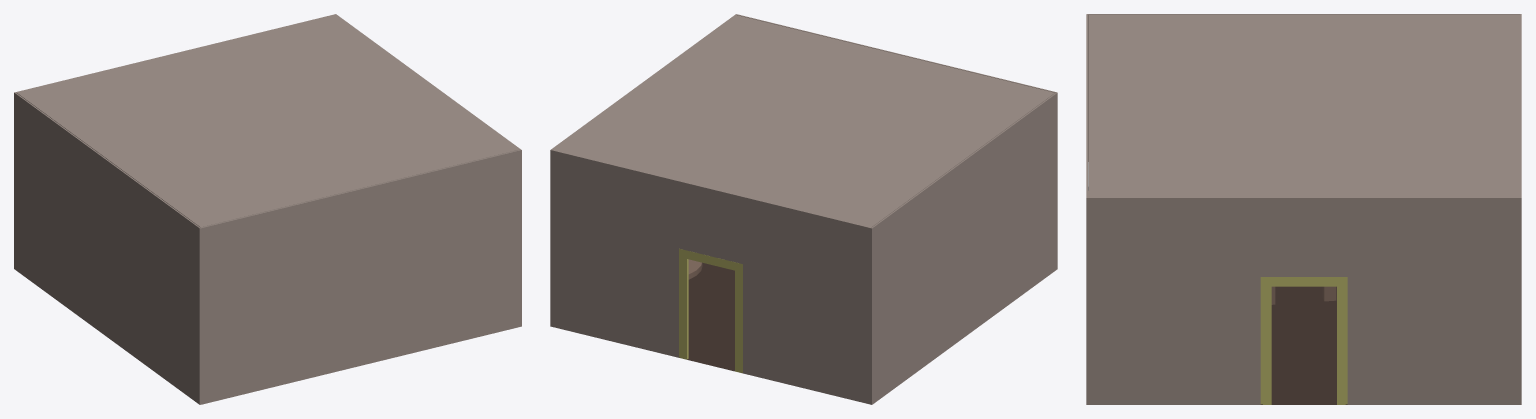
File: Room29_Kitchen.fbx
3 views of the same model, side by side, from view 1: azimuth 30°, elevation 25°; view 2: azimuth 150°, elevation 25°; view 3: azimuth 270°, elevation 25° (orthographic). The views are drawn at different scales.
Parts seen in each view (by area): view 1: Roof, WallPosZ, WallPosX, WallPosZ16, WallPosX23; view 2: Roof, WallSlicedNegZ, WallPosX, WallSlicedNegZ2, WallPosX23, Floor, DoorFrameNegZ, WallPosZ, WallSlicedNegX; view 3: Roof, WallSlicedNegX, WallSlicedNegX2, Floor, DoorFrameNegX, WallSlicedNegZ, WallPosZ, WallPosX.
Part boxes in pixels (x1,y1,x2,y2): Roof: (17,15,519,227); WallPosZ: (200,150,521,364); WallPosX: (14,92,200,364); WallPosZ16: (200,286,521,404); WallPosX23: (14,229,200,404); Roof: (552,15,1054,227); WallSlicedNegZ: (550,150,871,364); WallPosX: (871,92,1057,364); WallSlicedNegZ2: (550,286,871,404); WallPosX23: (870,229,1057,404); Floor: (679,263,742,373); DoorFrameNegZ: (679,248,742,372); WallPosZ: (736,14,1056,92); WallSlicedNegX: (550,14,736,285); Roof: (1088,15,1519,197); WallSlicedNegX: (1086,197,1521,357); WallSlicedNegX2: (1086,357,1521,404); Floor: (1260,286,1347,404); DoorFrameNegX: (1260,277,1347,404); WallSlicedNegZ: (1520,14,1521,357); WallPosZ: (1086,14,1087,357); WallPosX: (1086,14,1521,161).
Bounding box in the file's own units: 801 × 420 × 801.
